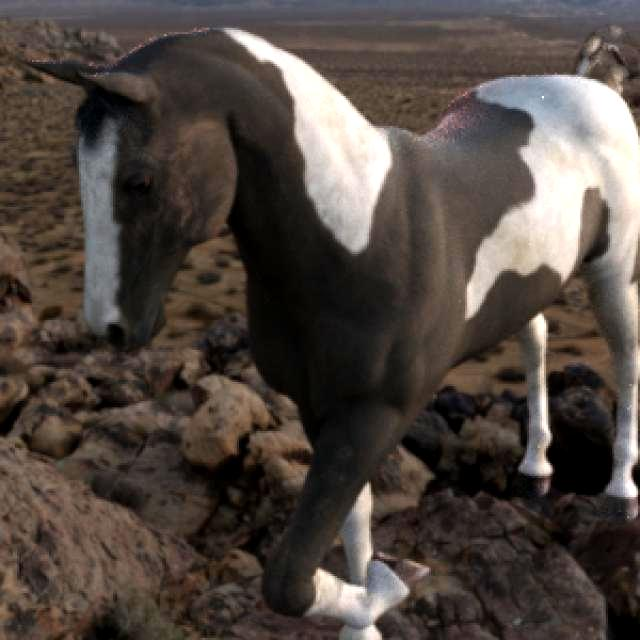horse: (31, 29, 640, 640)
